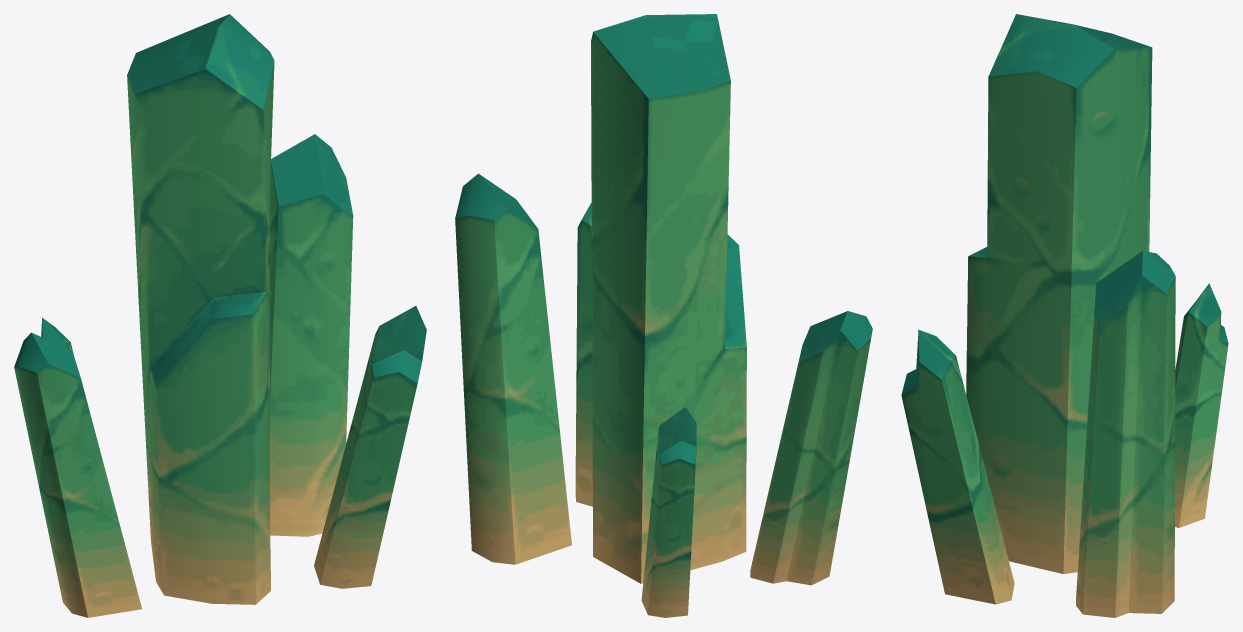
The model's file is cave_ice_crystal_01_fd404c66.glb.
3 views of the same model, side by side, from view 1: azimuth 30°, elevation 25°; view 2: azimuth 150°, elevation 25°; view 3: azimuth 270°, elevation 25° (orthographic).
Size of the model in its own units: 2.66 by 3.68 by 2.07.
Materials: 1 (1 with a texture image).
